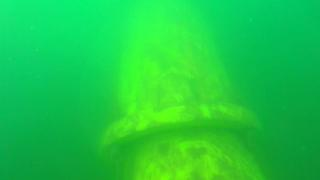pipe: (99, 1, 265, 179)
